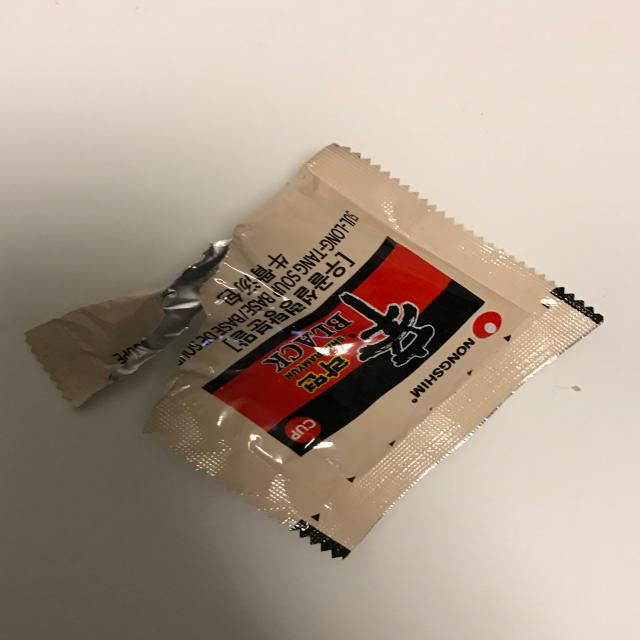trash: (34, 136, 612, 574)
